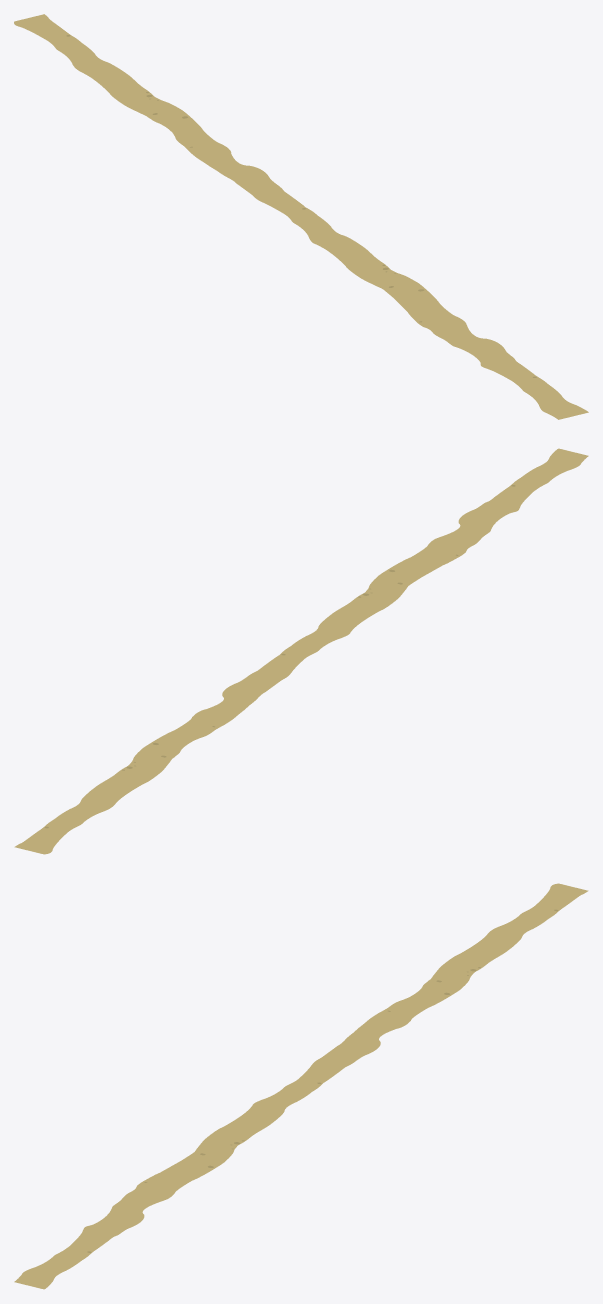
File: Mesh_Adventure_Forest_Variant_Terrain_03.fbx
The picture shows the model from 3 angles, top to bottom: view 1: azimuth 30°, elevation 25°; view 2: azimuth 150°, elevation 25°; view 3: azimuth 330°, elevation 25°; orthographic projection.
Parts seen in each view (by area): view 1: Mesh_Adventure_Forest_Variant_Terrain_03; view 2: Mesh_Adventure_Forest_Variant_Terrain_03; view 3: Mesh_Adventure_Forest_Variant_Terrain_03.
Part boxes in pixels (bbox=[...]): Mesh_Adventure_Forest_Variant_Terrain_03: bbox=[14, 14, 588, 419]; Mesh_Adventure_Forest_Variant_Terrain_03: bbox=[14, 448, 588, 854]; Mesh_Adventure_Forest_Variant_Terrain_03: bbox=[14, 883, 588, 1289].
Size of the model in its own units: 155 by 0.1003 by 3500.
